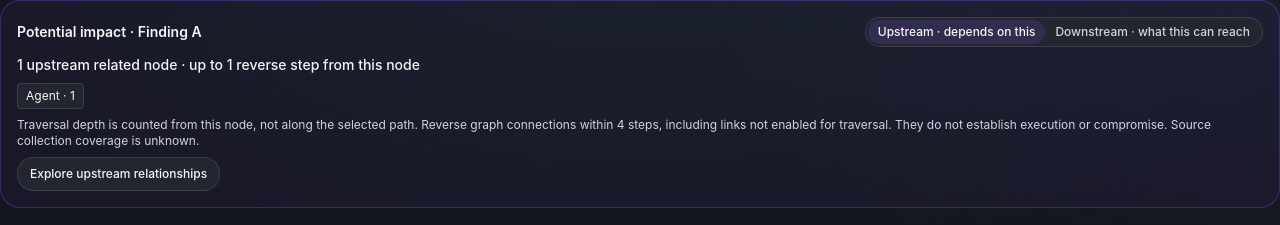
Scenario: toggles to downstream — what this can reach — at the same depth
Check: the button "Agent · 1" is shown, box [17,83,84,109]
Click the radio button labelled "Downstream · what this can reach". click: (1153, 32)
box: [1045,20,1260,44]
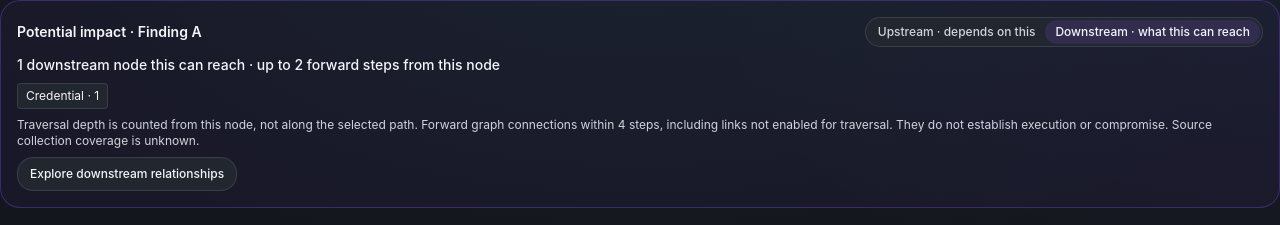
Check: the button "Credential · 1" is shown, box [17,83,108,109]
Check: the text "downstream node this can reach" is shown, box [17,56,245,73]
